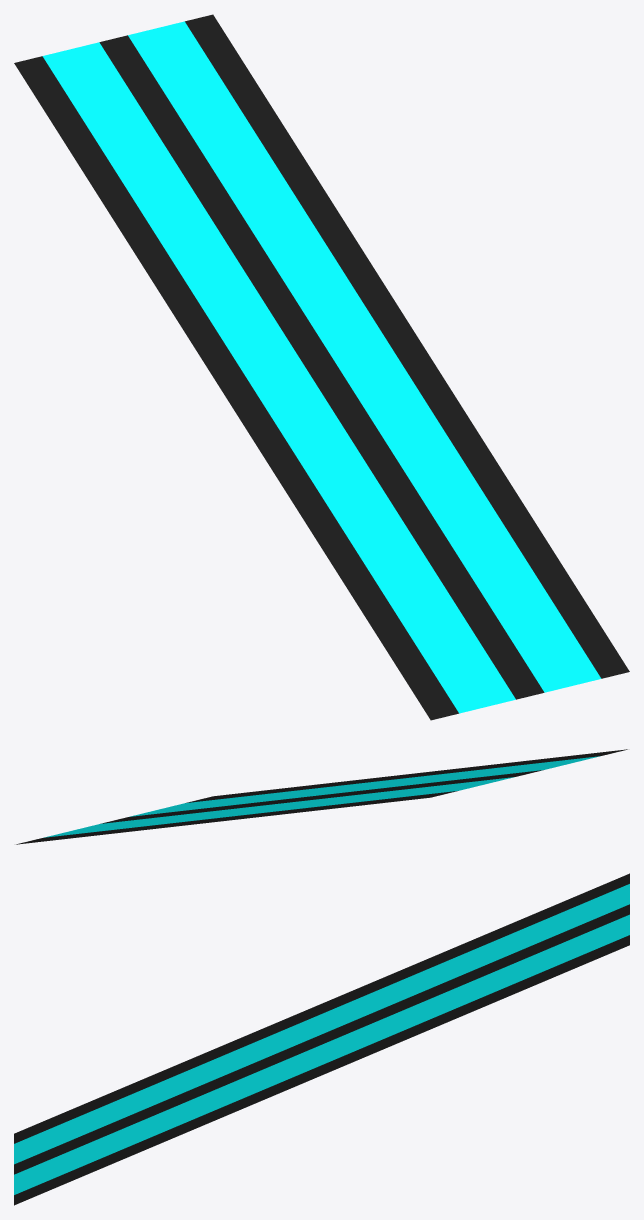
Rendered from RaceTrack_Up25Degree_20m 1.fbx.
3 views of the same model, one above another, from view 1: azimuth 30°, elevation 25°; view 2: azimuth 210°, elevation 25°; view 3: azimuth 270°, elevation 25° (orthographic). The views are drawn at different scales.
Parts seen in each view (by area): view 1: Up25Degree_20m; view 2: Up25Degree_20m; view 3: Up25Degree_20m.
Part boxes in pixels (left/top/right/bottom): Up25Degree_20m: left=14, top=14, right=629, bottom=720; Up25Degree_20m: left=16, top=749, right=627, bottom=844; Up25Degree_20m: left=14, top=873, right=629, bottom=1205.
Bounding box in the file's own units: 5 × 8.45 × 18.13.
